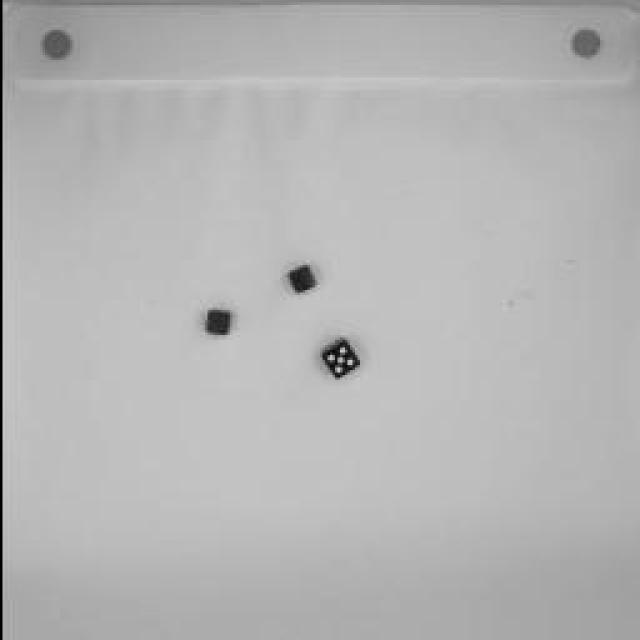dice_3: (285, 260, 315, 295)
dice_5: (320, 338, 360, 380)
dice_6: (204, 309, 228, 336)
